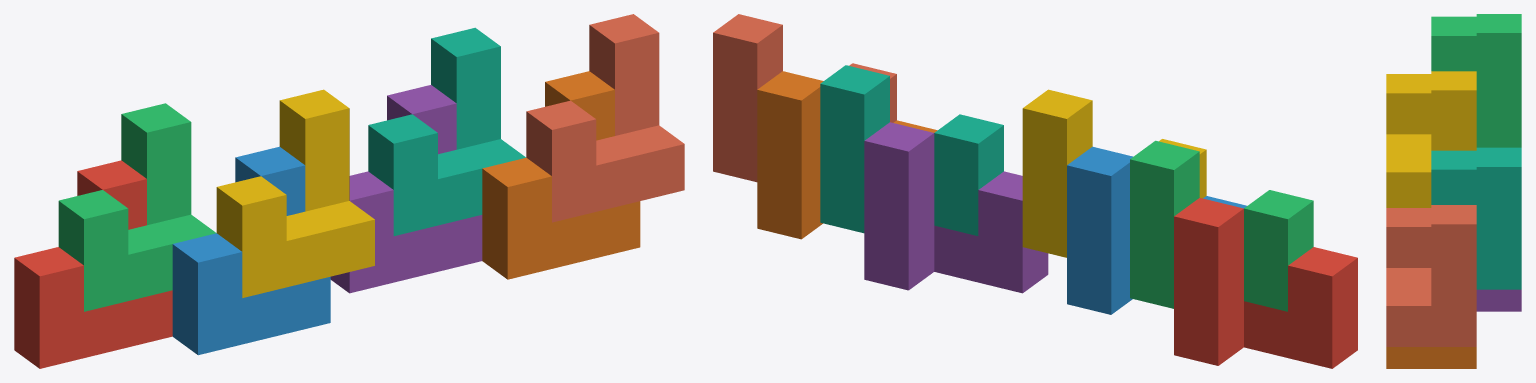
Rendered from tiling.obj.
3 renders of one model, left to right at view 1: azimuth 30°, elevation 25°; view 2: azimuth 150°, elevation 25°; view 3: azimuth 270°, elevation 25°, orthographic. The views are drawn at different scales.
Visible parts, largest first — view 1: copy_1_domain_4, copy_1_domain_8, copy_1_domain_3, copy_1_domain_7, copy_1_domain_2, copy_1_domain_1, copy_1_domain_6, copy_1_domain_5; view 2: copy_1_domain_1, copy_1_domain_5, copy_1_domain_7, copy_1_domain_3, copy_1_domain_6, copy_1_domain_2, copy_1_domain_4, copy_1_domain_8; view 3: copy_1_domain_8, copy_1_domain_4, copy_1_domain_7, copy_1_domain_3, copy_1_domain_6, copy_1_domain_5.
Part boxes in pixels (x1,y1,x2,y2): copy_1_domain_4: [216, 89, 374, 297]; copy_1_domain_8: [526, 14, 684, 222]; copy_1_domain_3: [58, 103, 216, 311]; copy_1_domain_7: [368, 27, 525, 235]; copy_1_domain_2: [172, 146, 330, 355]; copy_1_domain_1: [14, 160, 172, 368]; copy_1_domain_6: [482, 71, 640, 279]; copy_1_domain_5: [330, 85, 482, 293]; copy_1_domain_1: [1174, 198, 1357, 368]; copy_1_domain_5: [864, 122, 1048, 293]; copy_1_domain_7: [820, 65, 1003, 235]; copy_1_domain_3: [1130, 140, 1313, 311]; copy_1_domain_6: [757, 71, 937, 239]; copy_1_domain_2: [1067, 146, 1246, 314]; copy_1_domain_4: [1022, 89, 1206, 257]; copy_1_domain_8: [713, 14, 896, 182]; copy_1_domain_8: [1386, 205, 1476, 346]; copy_1_domain_4: [1386, 71, 1476, 207]; copy_1_domain_7: [1431, 147, 1521, 289]; copy_1_domain_3: [1431, 14, 1521, 147]; copy_1_domain_6: [1386, 347, 1476, 368]; copy_1_domain_5: [1476, 289, 1521, 311].
Bounding box in the file's own units: 14 × 4 × 3.
